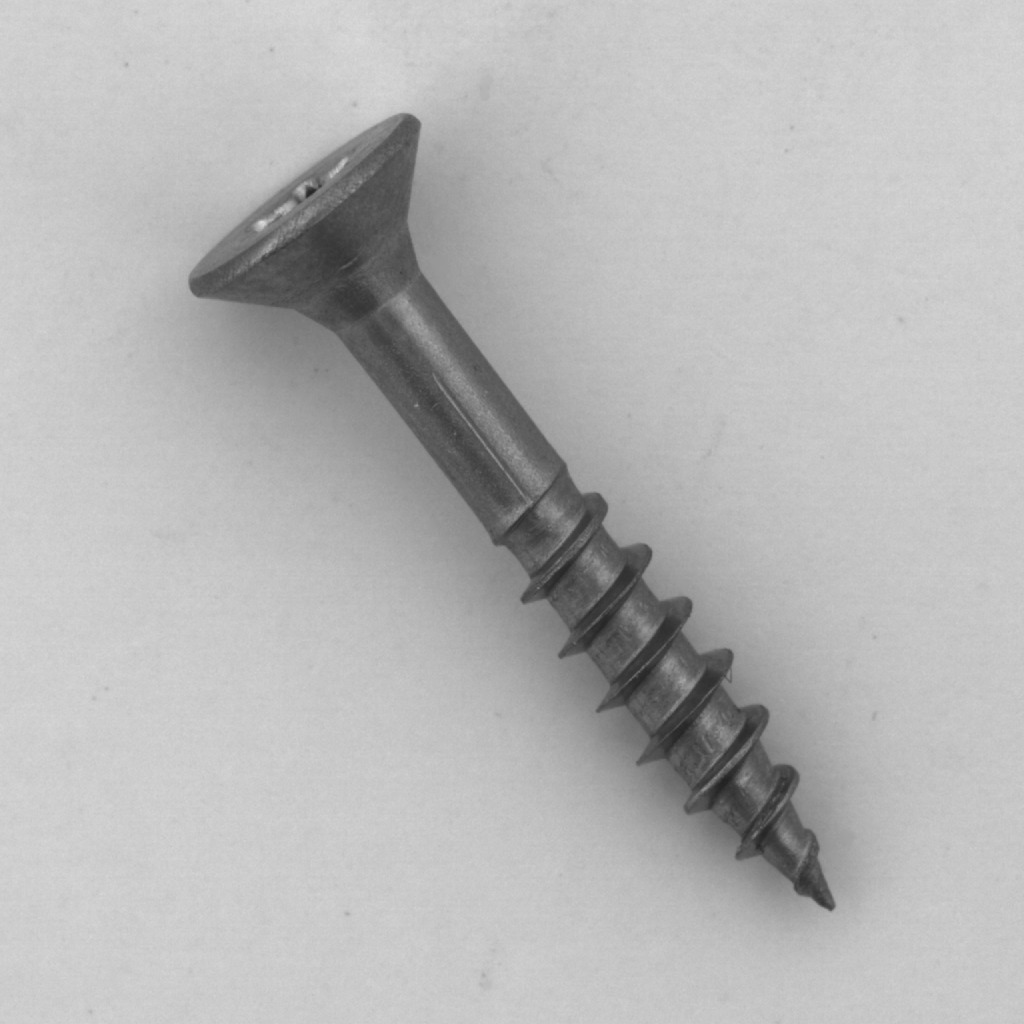good: (160, 98, 856, 932)
